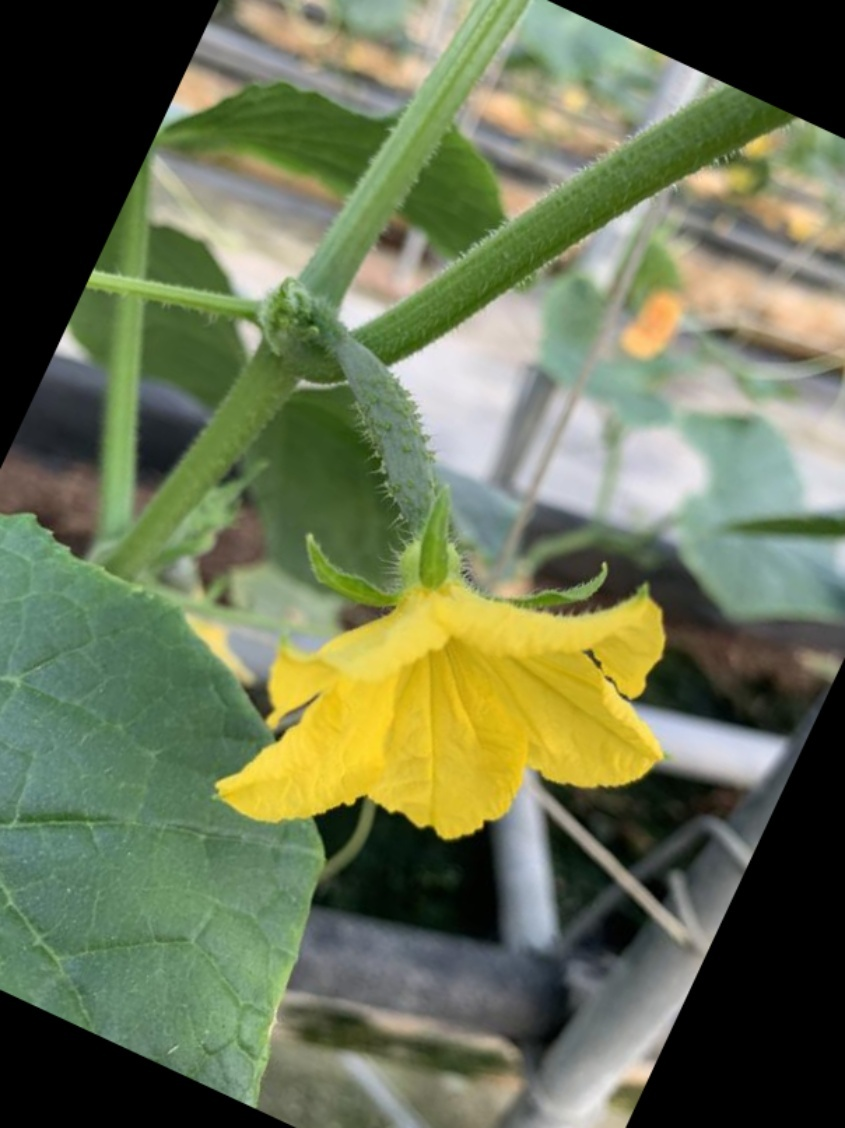flowering: (243, 326, 709, 856)
